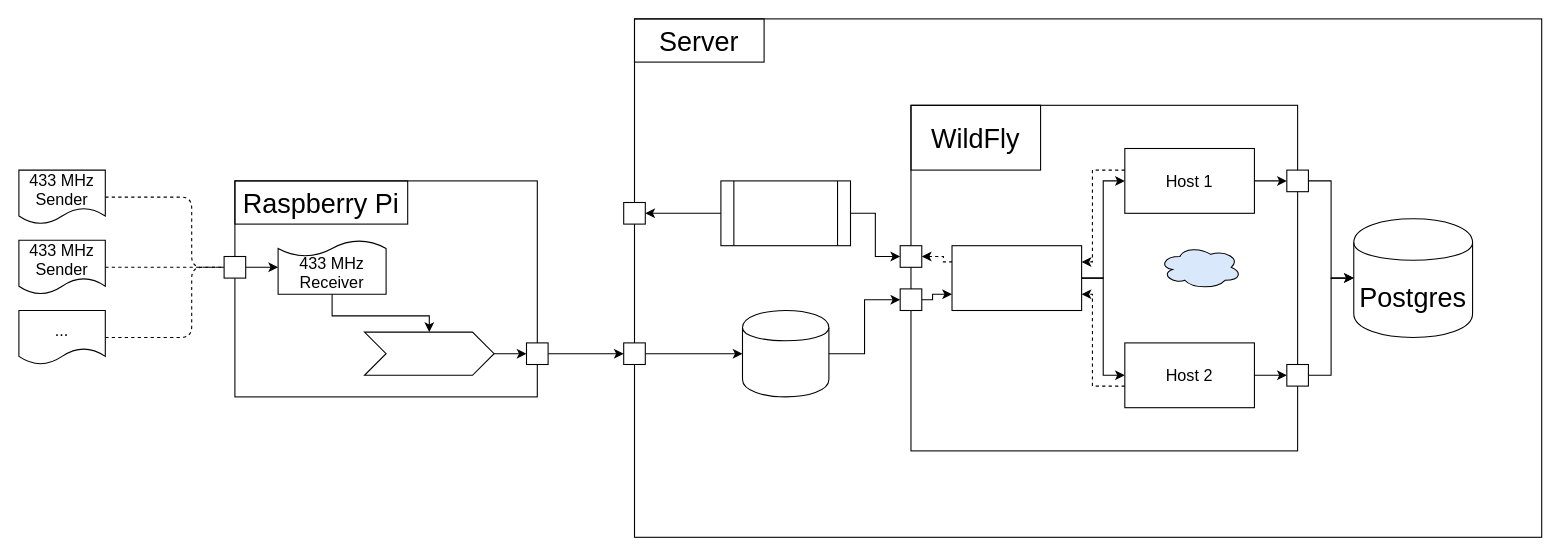
The diagram is 1561 pixels wide and 556 high, and some of its shapes have lost their labels. The centre of each missing label's shape, as x and y in pixels:
GUI: (x=785, y=213)
Kafka: (x=785, y=353)
Kafka Connector: (x=428, y=353)
Load Balancer: (x=1016, y=277)
REST: (x=1199, y=267)
